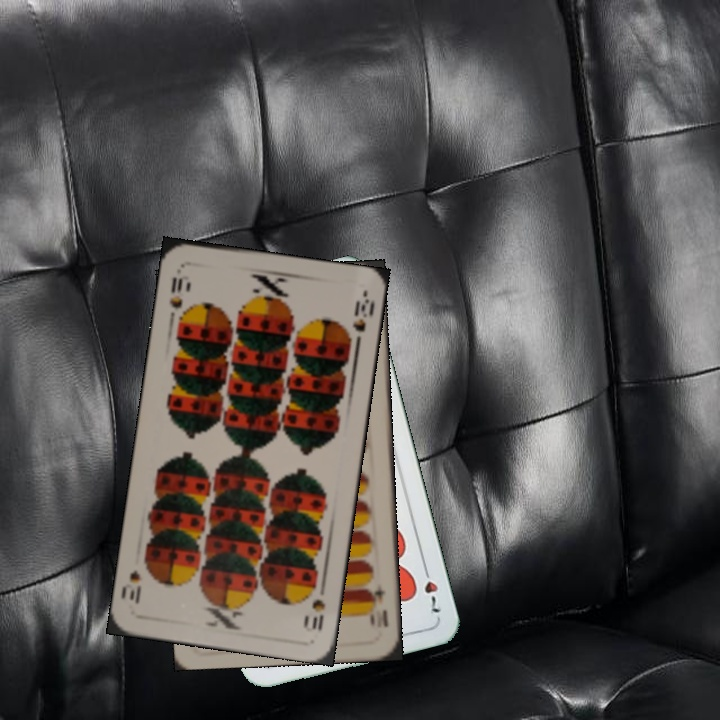E10: (364, 580, 387, 628)
H7: (418, 560, 443, 616)
S10: (302, 578, 328, 635), (165, 273, 186, 312)
